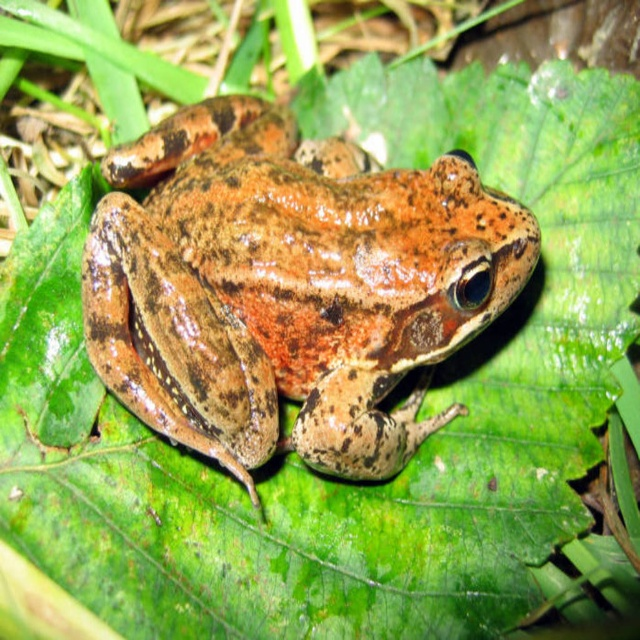Frog: (83, 90, 540, 511)
